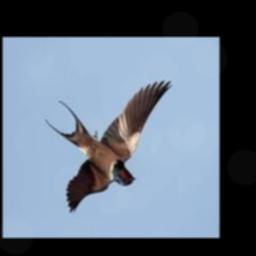Swallow: (45, 82, 174, 214)
